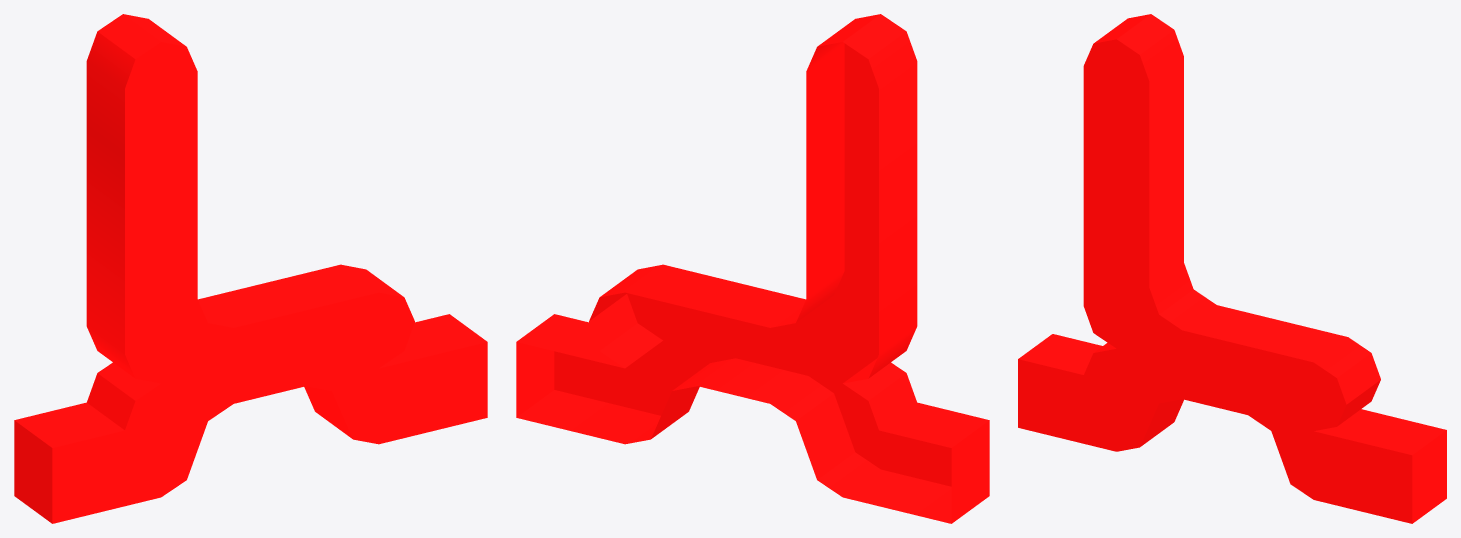
The model's file is L_Red.glb.
3 renders of one model, left to right at view 1: azimuth 30°, elevation 25°; view 2: azimuth 150°, elevation 25°; view 3: azimuth 330°, elevation 25°, orthographic. The views are drawn at different scales.
Visible parts, largest first — view 1: L_R; view 2: L_R; view 3: L_R.
Part boxes in pixels (box(x1,y1,x2,y2)): L_R: box(14, 14, 487, 523); L_R: box(516, 14, 989, 523); L_R: box(1018, 14, 1446, 523).
Bounding box in the file's own units: 0.4999 × 0.4999 × 0.0759.
Materials: 1 (1 with a texture image).
